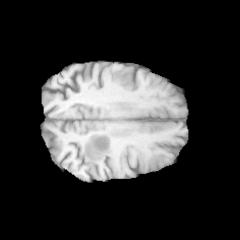glioma: (84, 134, 111, 161)
